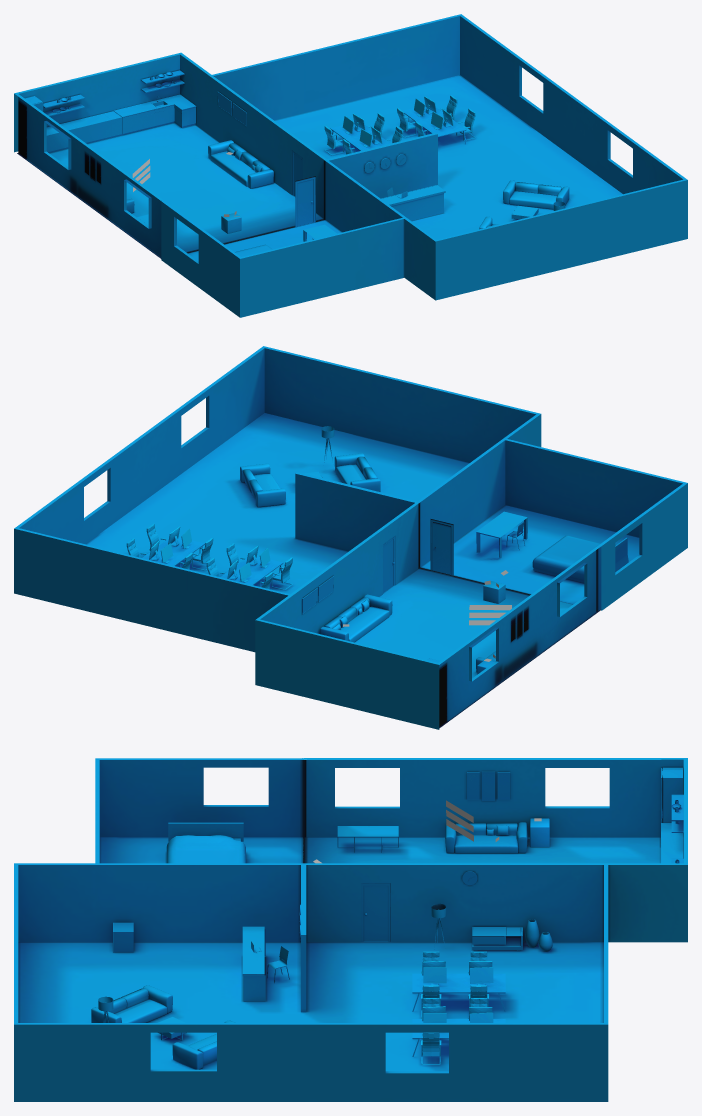
File: apartment.fbx
3 views of the same model, one above another, from view 1: azimuth 30°, elevation 25°; view 2: azimuth 150°, elevation 25°; view 3: azimuth 270°, elevation 25° (orthographic). The views are drawn at different scales.
Visible parts, largest first — view 1: pROOM2_4, pROOM2_floor, pROOM2_5, pROOM1_floor, pROOM2_3, pROOM2_1, pROOM1_1, pROOM1_3, pROOM1_2, pROOM2_2, pTABLE1, pSOFA2 (+9 smaller); view 2: pROOM2_floor, pROOM2_4, pROOM2_5, pROOM1_2, pROOM2_1, pROOM2_3, pROOM1_1, pROOM1_floor, pROOM1_3, pROOM2_2, OFFICE_SOFA_MODEL, BED_MODEL (+9 smaller); view 3: pROOM2_floor, pROOM2_4, pROOM1_3, pROOM2_1, pROOM1_1, pROOM2_2, pROOM1_floor, BED_MODEL, OFFICE_SOFA_MODEL, pSOFA1, MAC_OFFICE_MODEL, CHAIR_MODEL (+15 smaller).
Part boxes in pixels (left/top/right/bottom): pROOM2_4: left=435, top=14, right=687, bottom=300; pROOM2_floor: left=188, top=75, right=622, bottom=260; pROOM2_5: left=212, top=14, right=460, bottom=120; pROOM1_floor: left=17, top=123, right=324, bottom=258; pROOM2_3: left=240, top=217, right=404, bottom=317; pROOM2_1: left=324, top=132, right=437, bottom=300; pROOM1_1: left=14, top=93, right=162, bottom=256; pROOM1_3: left=180, top=52, right=326, bottom=218; pROOM1_2: left=14, top=52, right=180, bottom=152; pROOM2_2: left=161, top=199, right=240, bottom=317; pTABLE1: left=46, top=94, right=196, bottom=153; pSOFA2: left=208, top=140, right=273, bottom=188; pROOM2_floor: left=86, top=413, right=639, bottom=611; pROOM2_4: left=14, top=346, right=540, bottom=544; pROOM2_5: left=14, top=528, right=289, bottom=652; pROOM1_2: left=255, top=619, right=439, bottom=729; pROOM2_1: left=295, top=414, right=541, bottom=567; pROOM2_3: left=505, top=439, right=686, bottom=537; pROOM1_1: left=438, top=546, right=600, bottom=726; pROOM1_floor: left=355, top=567, right=598, bottom=728; pROOM1_3: left=256, top=502, right=418, bottom=633; pROOM2_2: left=596, top=483, right=687, bottom=611; OFFICE_SOFA_MODEL: left=240, top=453, right=380, bottom=507; BED_MODEL: left=532, top=535, right=628, bottom=582; pROOM2_floor: left=18, top=837, right=603, bottom=1071; pROOM2_4: left=14, top=863, right=608, bottom=1101; pROOM1_3: left=305, top=863, right=687, bottom=942; pROOM2_1: left=14, top=863, right=306, bottom=1012; pROOM1_1: left=302, top=758, right=687, bottom=837; pROOM2_2: left=96, top=758, right=306, bottom=837; pROOM1_floor: left=303, top=837, right=683, bottom=863; BED_MODEL: left=166, top=822, right=245, bottom=863; OFFICE_SOFA_MODEL: left=91, top=985, right=235, bottom=1069; pSOFA1: left=445, top=822, right=527, bottom=853; MAC_OFFICE_MODEL: left=422, top=961, right=493, bottom=1022; CHAIR_MODEL: left=420, top=951, right=489, bottom=1064.
Size of the model in its own units: 86.16 by 11.93 by 92.05.
29 materials, 25 textured.
